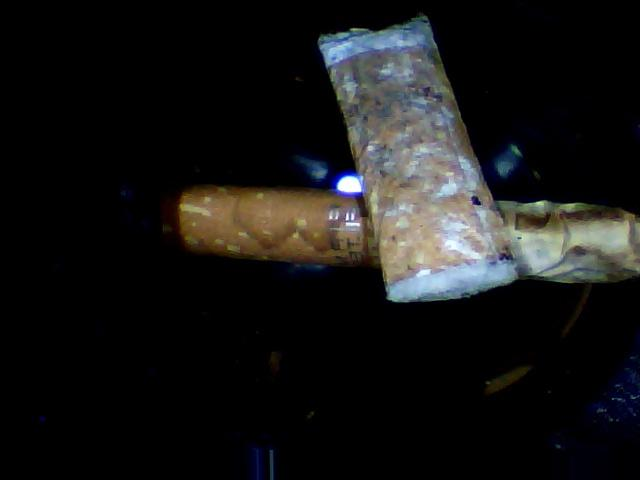megot: (302, 10, 537, 305), (166, 165, 639, 284)
